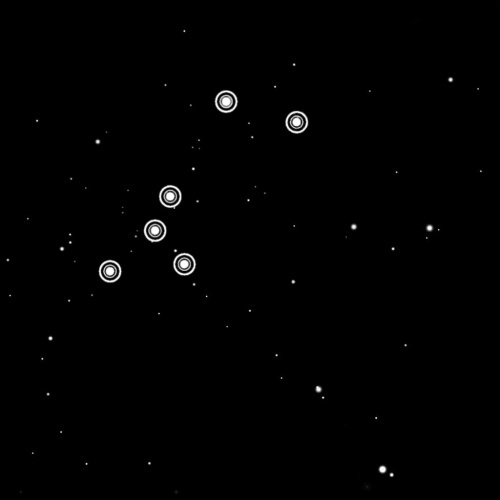canis_major: (91, 86, 313, 292)
